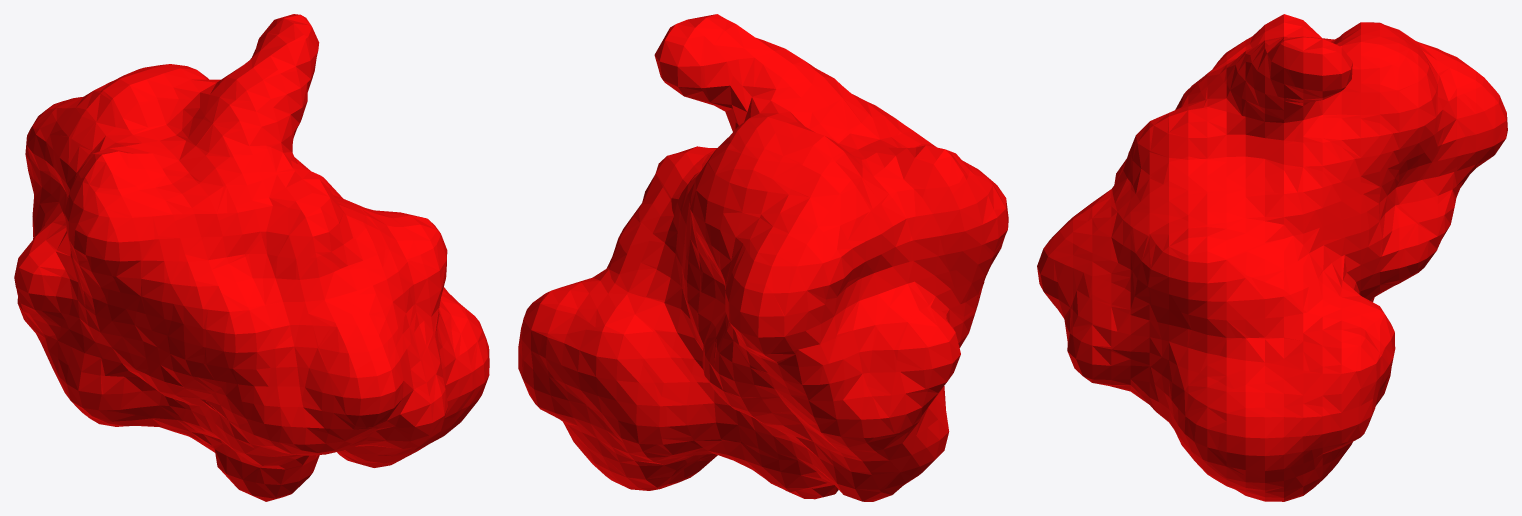
Rendered from ddlA_coarse.dae.
3 views of the same model, side by side, from view 1: azimuth 30°, elevation 25°; view 2: azimuth 150°, elevation 25°; view 3: azimuth 270°, elevation 25° (orthographic). The views are drawn at different scales.
Parts seen in each view (by area): view 1: ddlA; view 2: ddlA; view 3: ddlA.
Part boxes in pixels (bbox=[...]): ddlA: bbox=[14, 14, 489, 501]; ddlA: bbox=[518, 14, 1008, 501]; ddlA: bbox=[1037, 14, 1507, 501].
Size of the model in its own units: 62.63 by 63.82 by 63.61.
